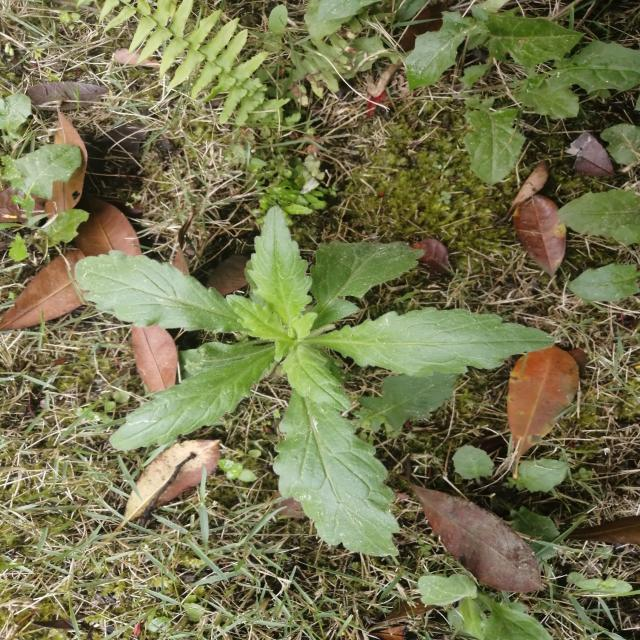horseweed: (68, 235, 541, 520)
